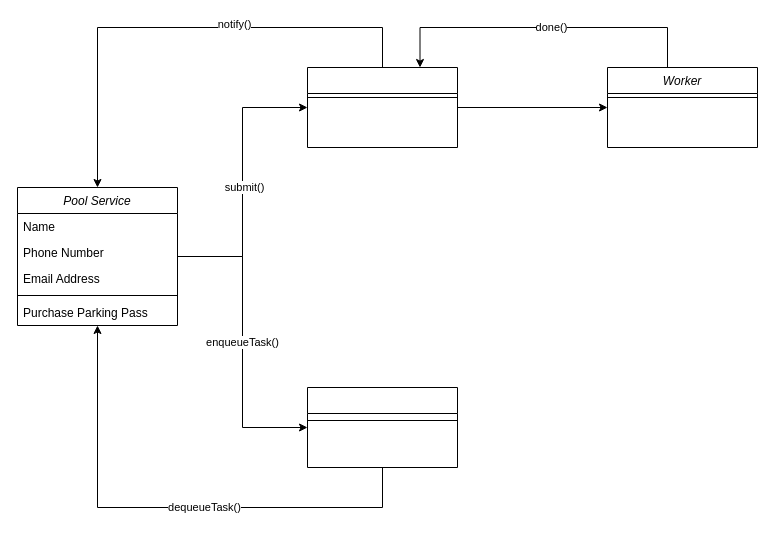
The diagram is 775 pixels wide and 533 high, and some of its shapes have lost their labels. Here are the shapes that lost their labels. From the top down, the box of each, then its label:
(306, 66, 458, 148): Pool
(306, 386, 458, 468): Task Queue
